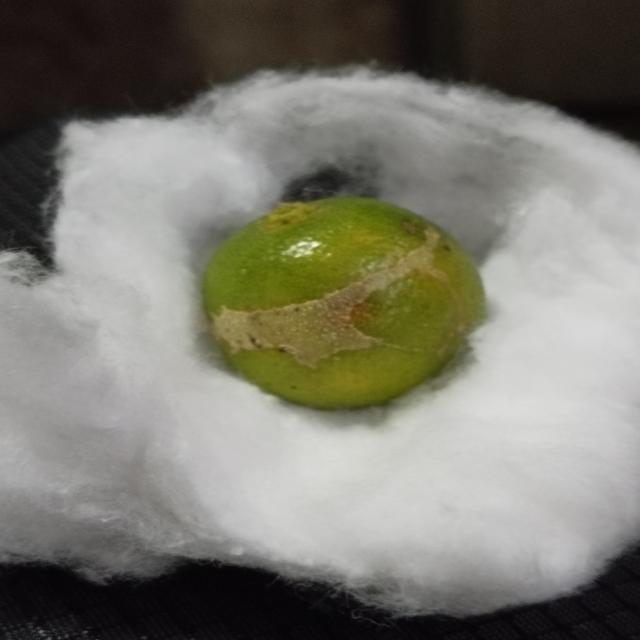thrips: (192, 191, 491, 410)
